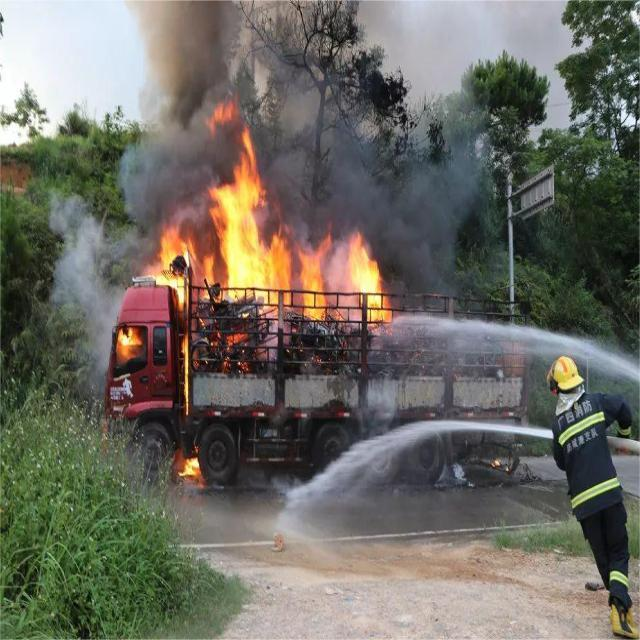Fire: (209, 130, 286, 292), (349, 232, 392, 314), (298, 238, 328, 318), (157, 228, 187, 294), (178, 454, 200, 481), (118, 324, 140, 350)
Smoke: (397, 101, 484, 310), (50, 186, 119, 382), (120, 0, 162, 226), (163, 1, 256, 102)
